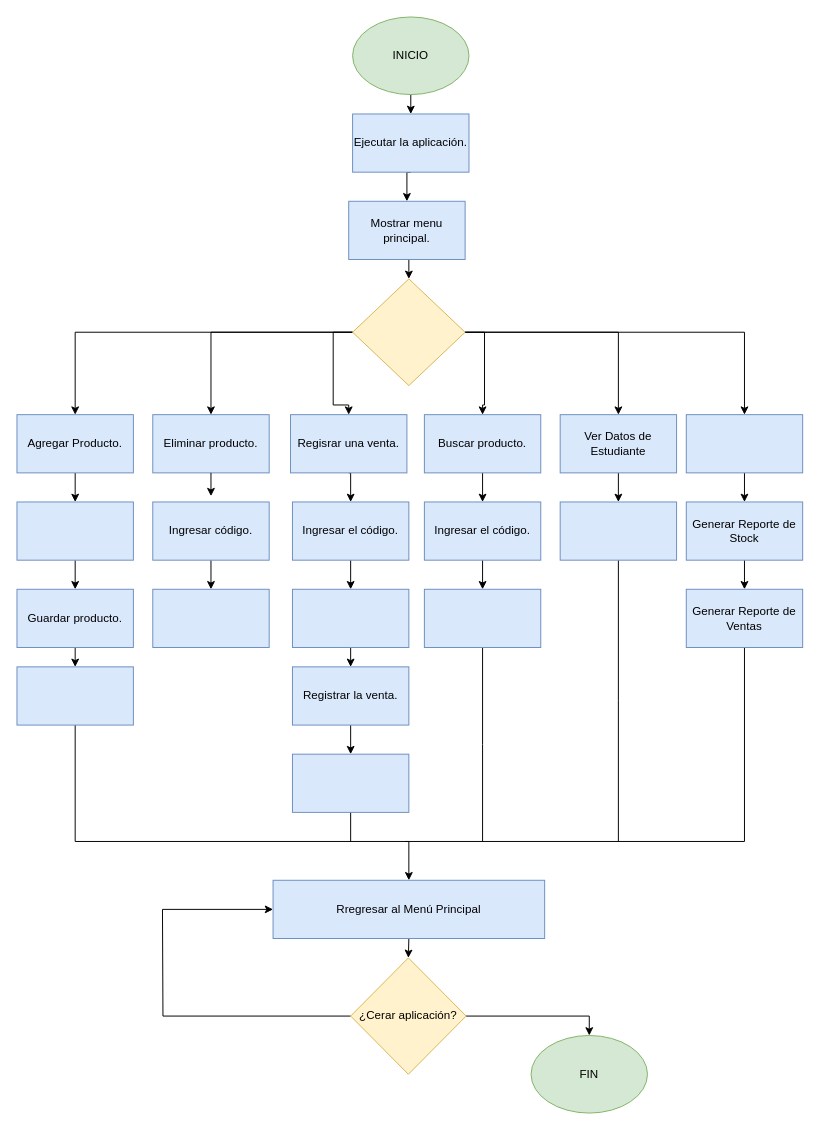
Image size: 820x1130. Some labels were removed from this diagram. Here are the shapes that lost their labels. From the top down, the centre of each, then its label:
point (408, 332): ¿Opción seleccionada?
point (744, 443): Generar Reportes
point (74, 530): Ingresar datos del producto.
point (618, 530): Mostrar información.
point (210, 617): Eliminar el producto.
point (350, 617): Ingresar la cantidad a vender.
point (482, 617): Mostrar los resultados.
point (74, 695): Mostrar mensaje de éxito.
point (350, 782): Mensaje de confirmación.
